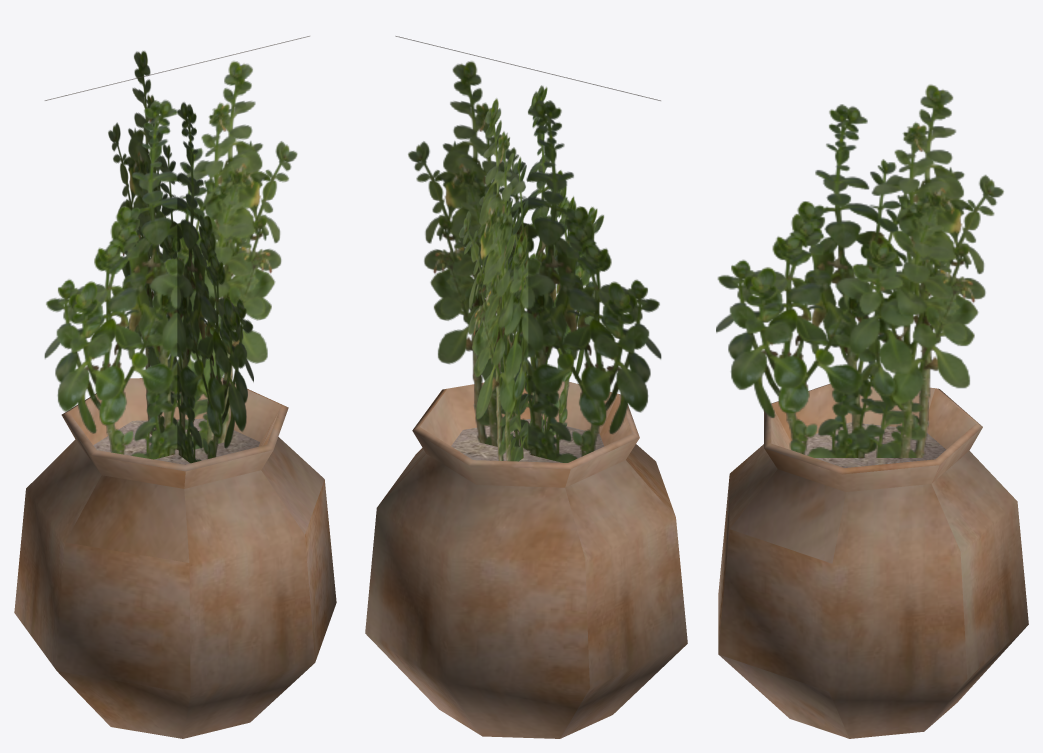
The model's file is plant_4.glb.
3 views of the same model, side by side, from view 1: azimuth 30°, elevation 25°; view 2: azimuth 150°, elevation 25°; view 3: azimuth 270°, elevation 25° (orthographic).
Visible parts, largest first — view 1: Plants_01; view 2: Plants_01; view 3: Plants_01.
Part boxes in pixels (<box>): Plants_01: <box>14,36,336,738</box>; Plants_01: <box>365,36,687,738</box>; Plants_01: <box>716,84,1028,738</box>.
Bounding box in the file's own units: 0.6964 × 1.51 × 0.6838.
Materials: 2 (2 with a texture image).
